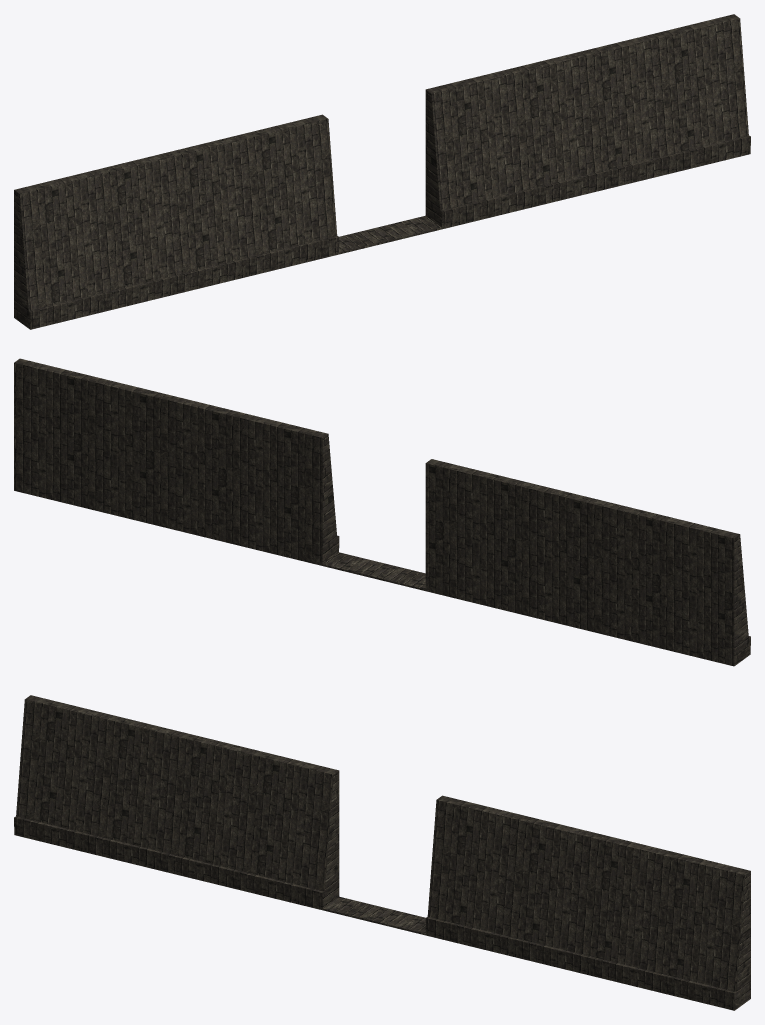
Rendered from wallmodel.fbx.
3 views of the same model, one above another, from view 1: azimuth 30°, elevation 25°; view 2: azimuth 150°, elevation 25°; view 3: azimuth 330°, elevation 25° (orthographic).
Visible parts, largest first — view 1: pCube4; view 2: pCube4; view 3: pCube4.
Boxes of the visible parts, x1,y1,x2,y2 form: pCube4: (14,14,750,329); pCube4: (14,358,750,666); pCube4: (14,695,750,1010).
Bounding box in the file's own units: 70.68 × 12 × 2.84.
Materials: 1 (1 with a texture image).
